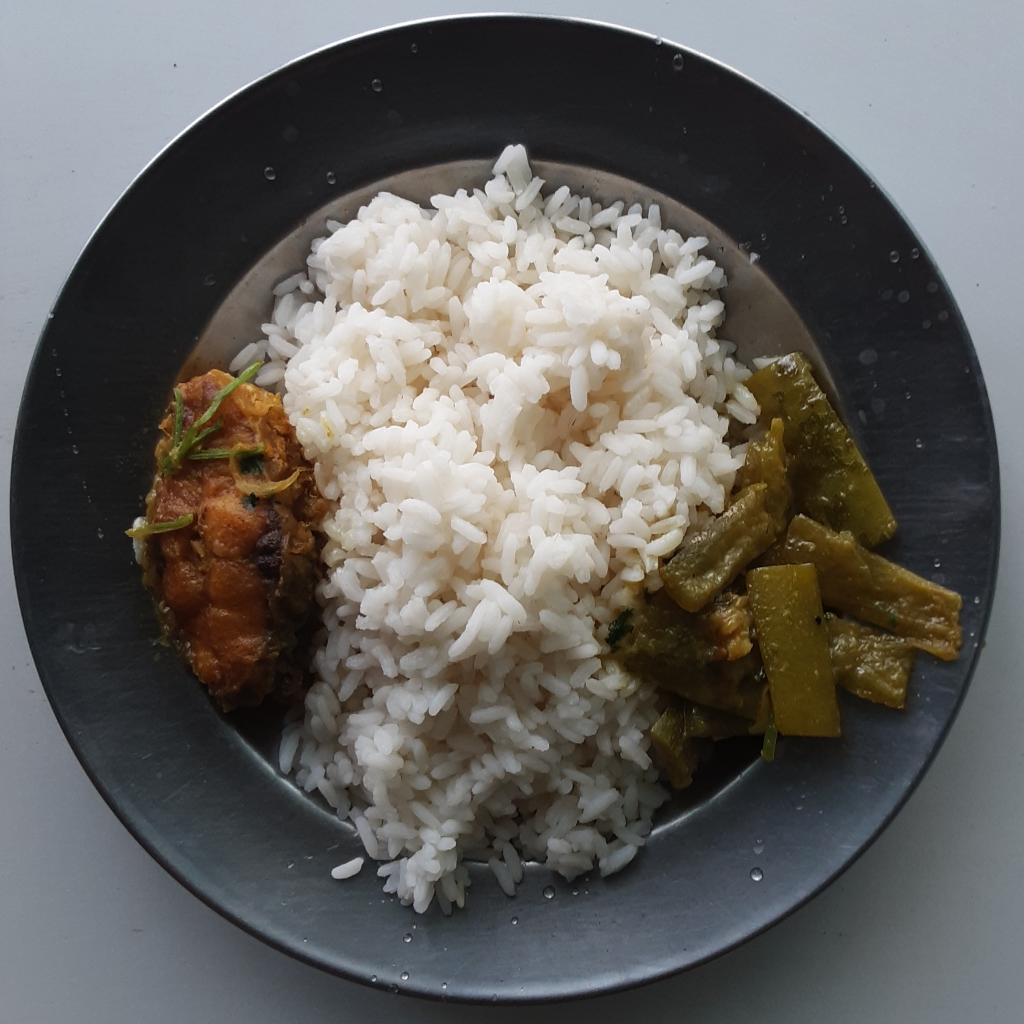dundol: (626, 348, 963, 799)
fish: (127, 369, 321, 717)
rice: (228, 140, 765, 918)
